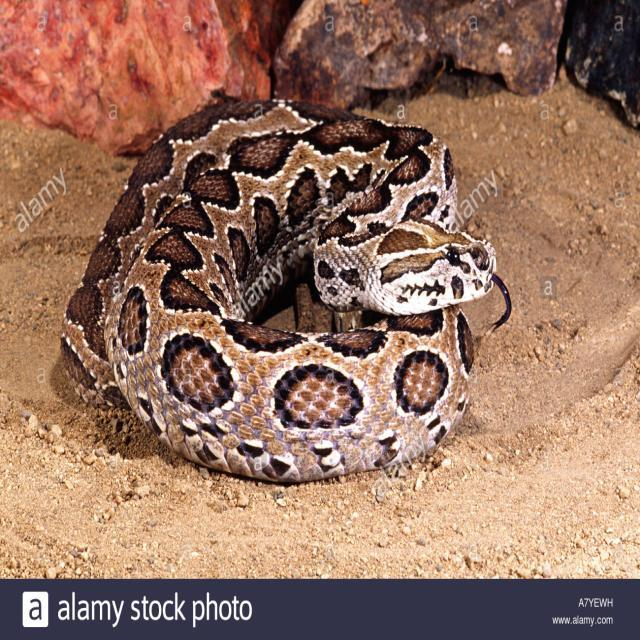Snake: (59, 91, 510, 484)
